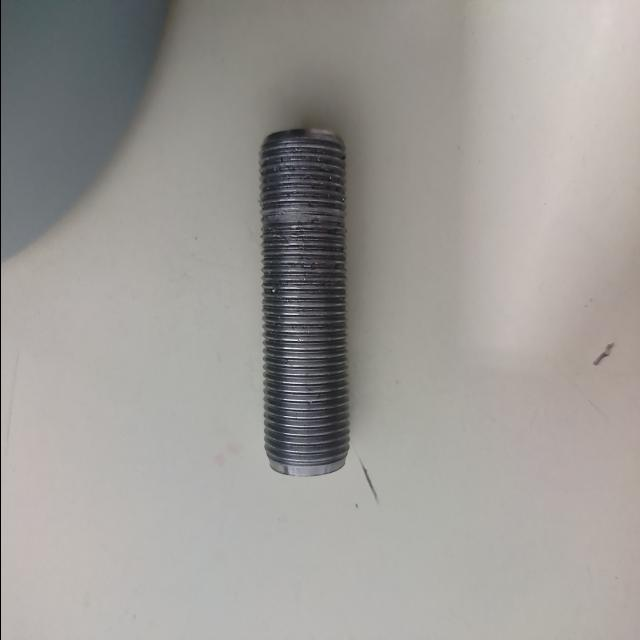Broken: (257, 130, 351, 474)
